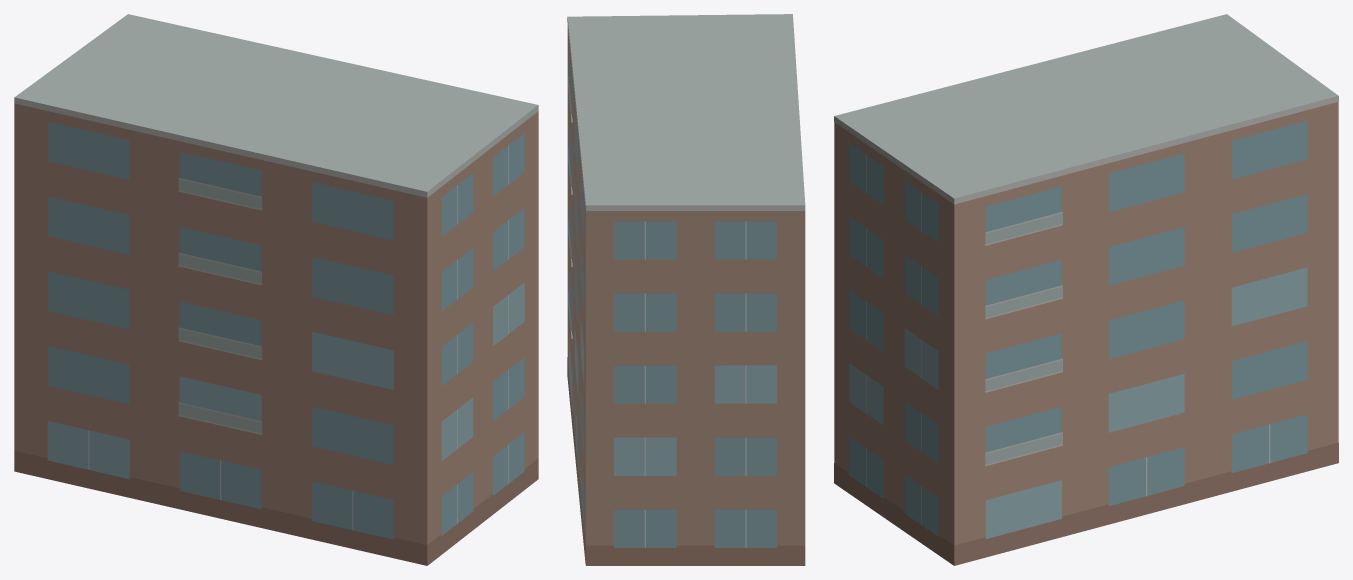
Rendered from survey-upis-32760215.glb.
The picture shows the model from 3 angles, left to right: view 1: azimuth 30°, elevation 25°; view 2: azimuth 150°, elevation 25°; view 3: azimuth 270°, elevation 25°; orthographic projection. The views are drawn at different scales.
Parts seen in each view (by area): view 1: survey-upis-32760215.tmp; view 2: survey-upis-32760215.tmp; view 3: survey-upis-32760215.tmp.
Part boxes in pixels (<box>): survey-upis-32760215.tmp: <box>14,14,538,565</box>; survey-upis-32760215.tmp: <box>567,14,805,565</box>; survey-upis-32760215.tmp: <box>834,14,1338,565</box>.
Size of the model in its own units: 16.45 by 15.25 by 19.
